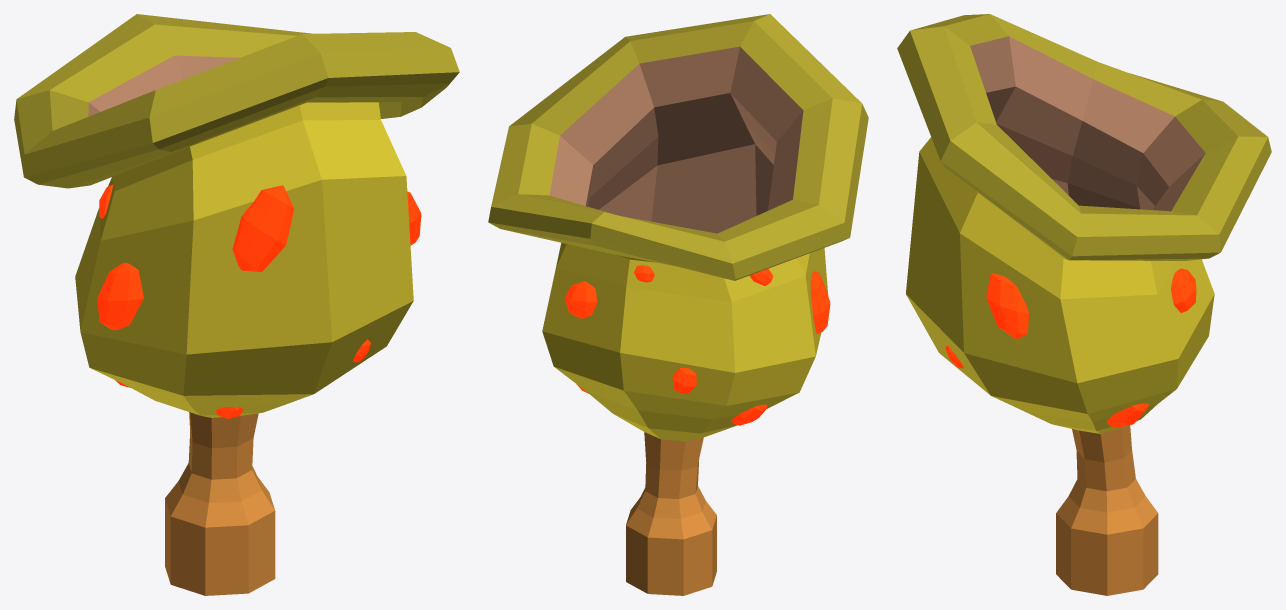
File: Mushroom_02_Var_02.fbx
3 views of the same model, side by side, from view 1: azimuth 30°, elevation 25°; view 2: azimuth 150°, elevation 25°; view 3: azimuth 270°, elevation 25° (orthographic). The views are drawn at different scales.
Visible parts, largest first — view 1: Mushroom_02_Var_02; view 2: Mushroom_02_Var_02; view 3: Mushroom_02_Var_02.
Part boxes in pixels (bbox=[...]): Mushroom_02_Var_02: bbox=[14, 14, 459, 595]; Mushroom_02_Var_02: bbox=[488, 14, 868, 595]; Mushroom_02_Var_02: bbox=[897, 14, 1271, 595].
Bounding box in the file's own units: 0.8341 × 1.34 × 0.9752.
